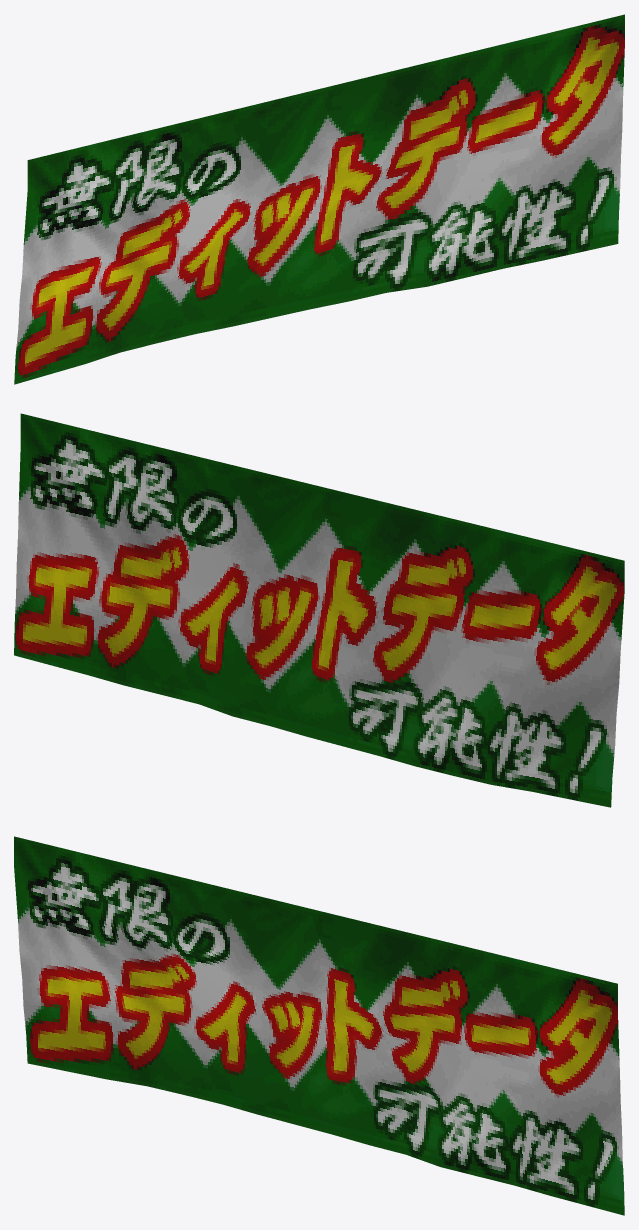
The model's file is ps2_save-icons_winningpost2010-edit.glb.
3 renders of one model, top to bottom at view 1: azimuth 30°, elevation 25°; view 2: azimuth 150°, elevation 25°; view 3: azimuth 330°, elevation 25°, orthographic.
Parts seen in each view (by area): view 1: edit_date.icn; view 2: edit_date.icn; view 3: edit_date.icn.
Part boxes in pixels (x1,y1,x2,y2): edit_date.icn: (14,14,624,384); edit_date.icn: (14,413,624,807); edit_date.icn: (14,836,624,1215).
Size of the model in its own units: 4.95 by 1.86 by 0.2935.
1 material, 1 textured.
